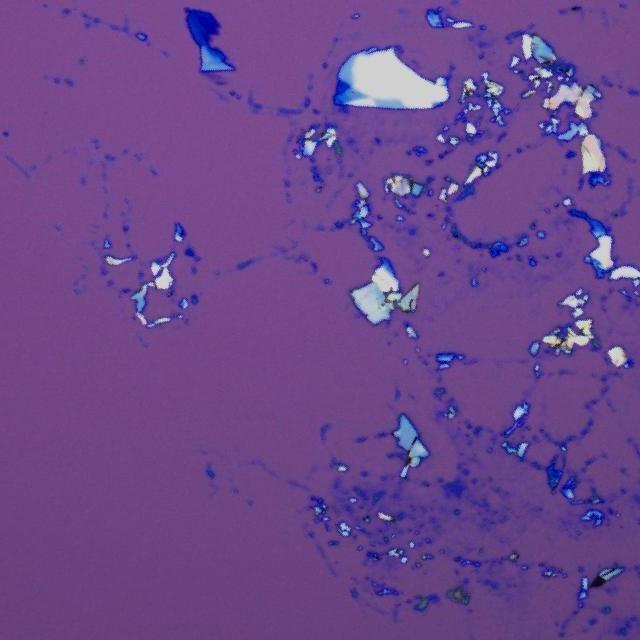monolayer-eWW4: (204, 72, 224, 80)
